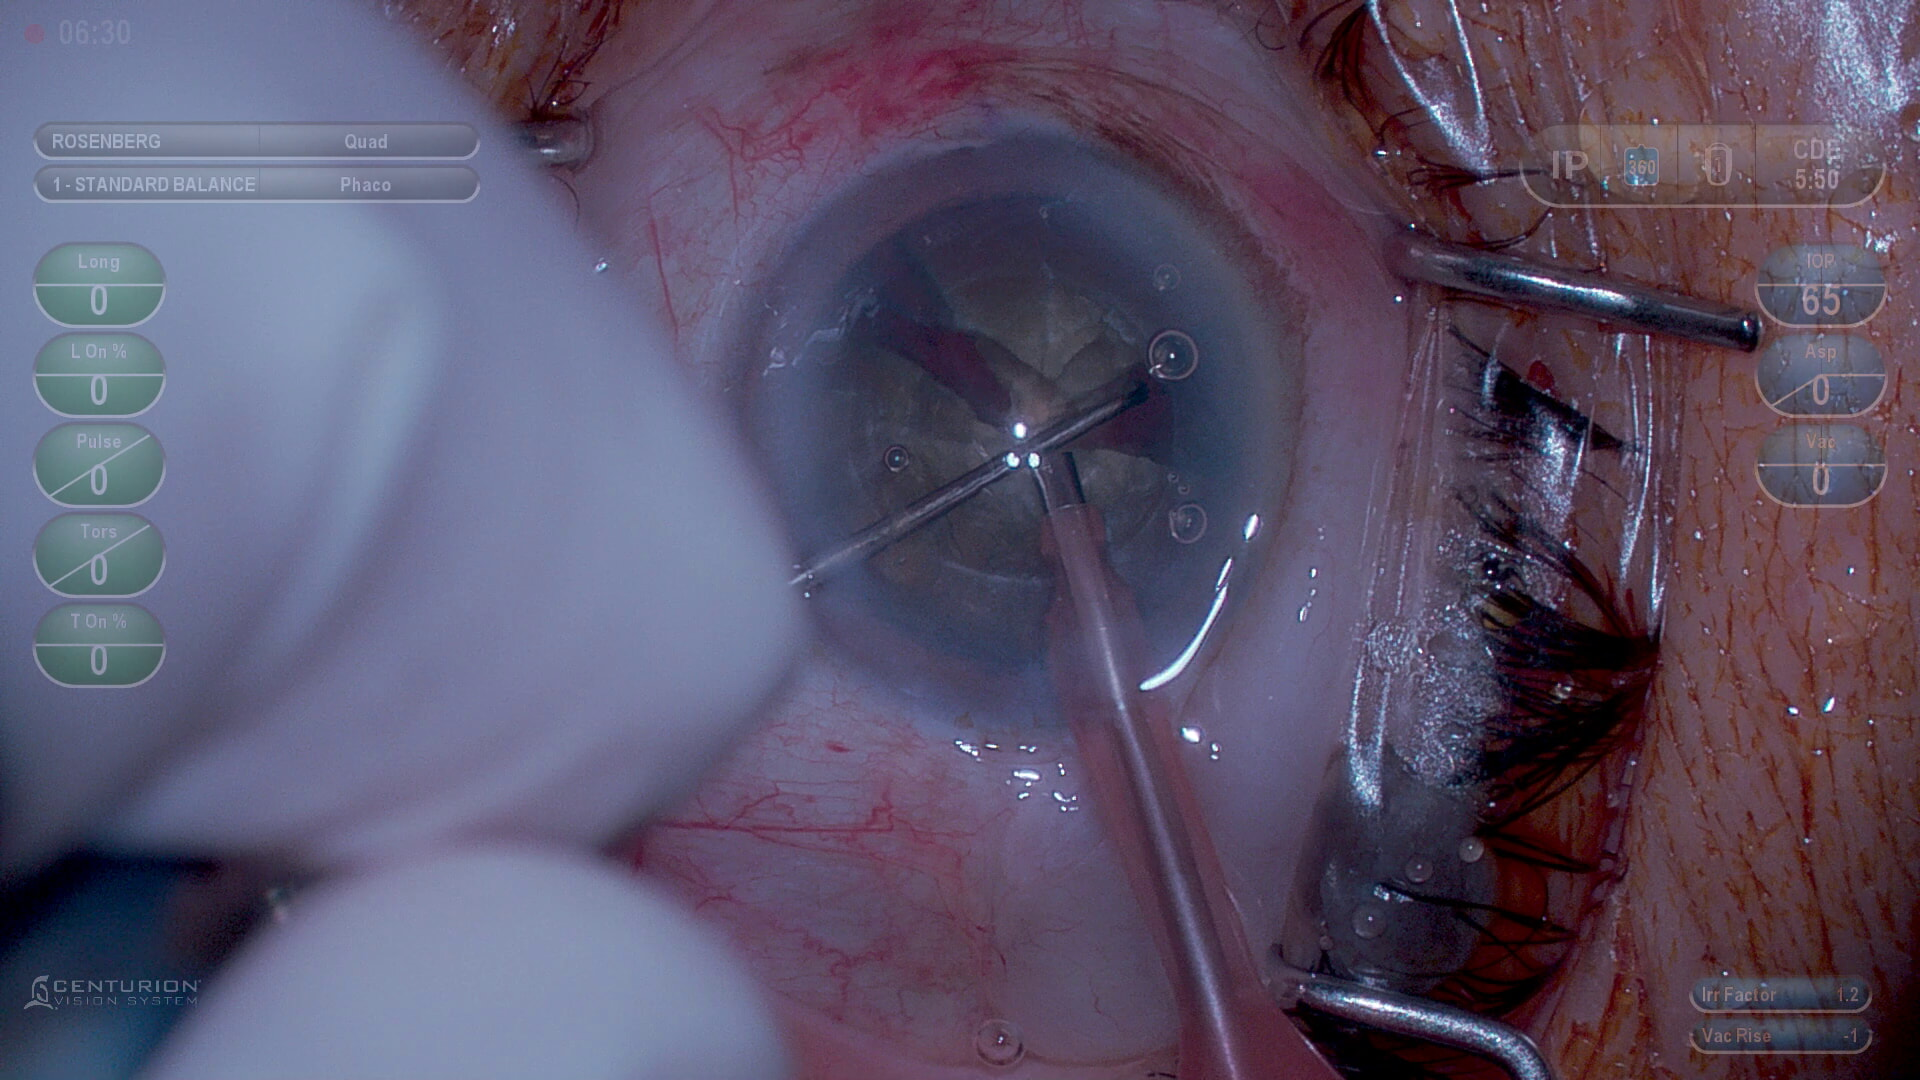iris: (747, 161, 1271, 687)
pupil: (830, 248, 1188, 595)
